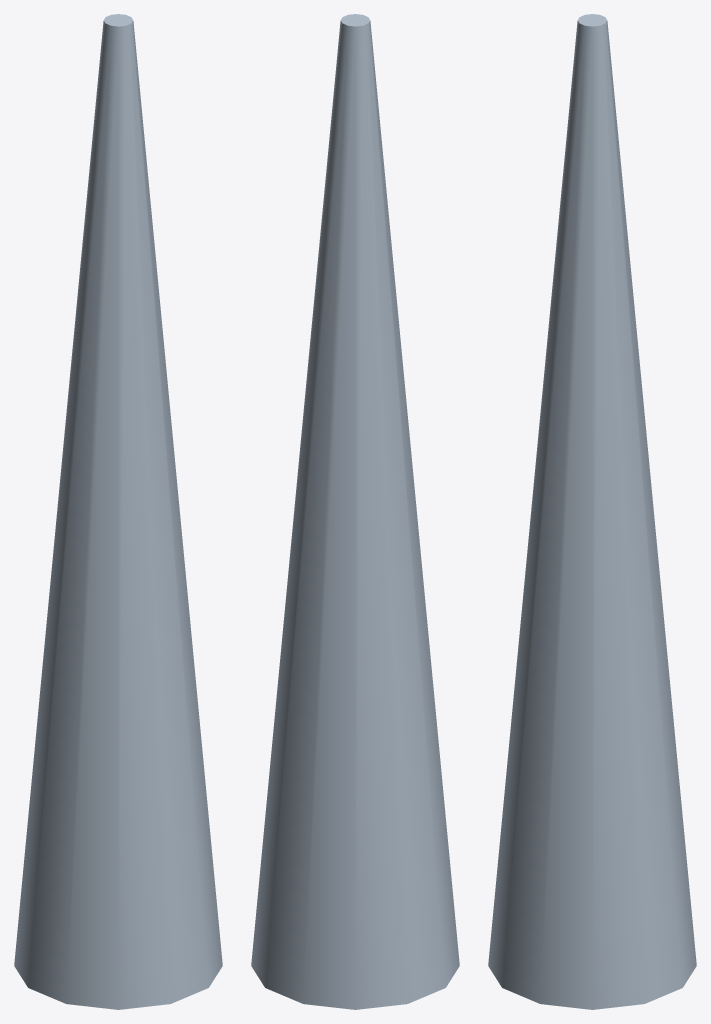
The model's file is rcs.glb.
3 renders of one model, left to right at view 1: azimuth 30°, elevation 25°; view 2: azimuth 150°, elevation 25°; view 3: azimuth 270°, elevation 25°, orthographic.
Visible parts, largest first — view 1: 喷柱; view 2: 喷柱; view 3: 喷柱.
Part boxes in pixels (x1,y1,x2,y2): 喷柱: (14, 14, 222, 1009); 喷柱: (251, 14, 459, 1009); 喷柱: (488, 14, 696, 1009).
Size of the model in its own units: 0.28 by 1.4 by 0.28.
